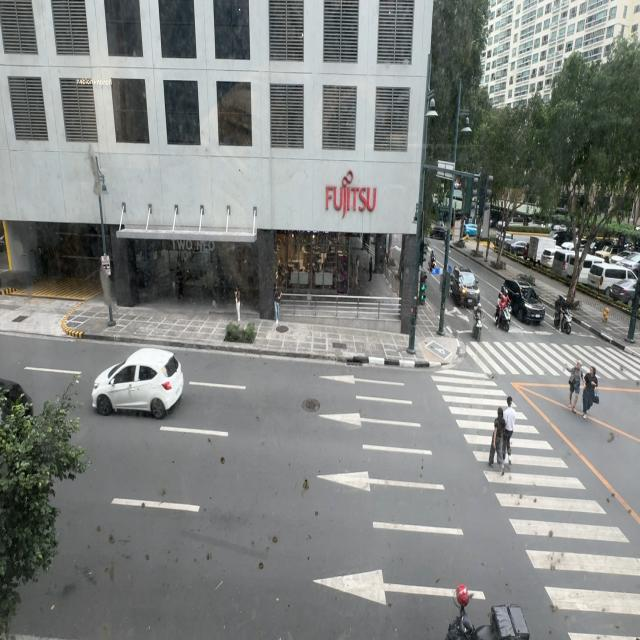crossing: (488, 406, 506, 476), (504, 395, 516, 464)
jaywalking: (581, 364, 598, 418), (568, 359, 583, 412)
pedestrain: (274, 284, 282, 325)
